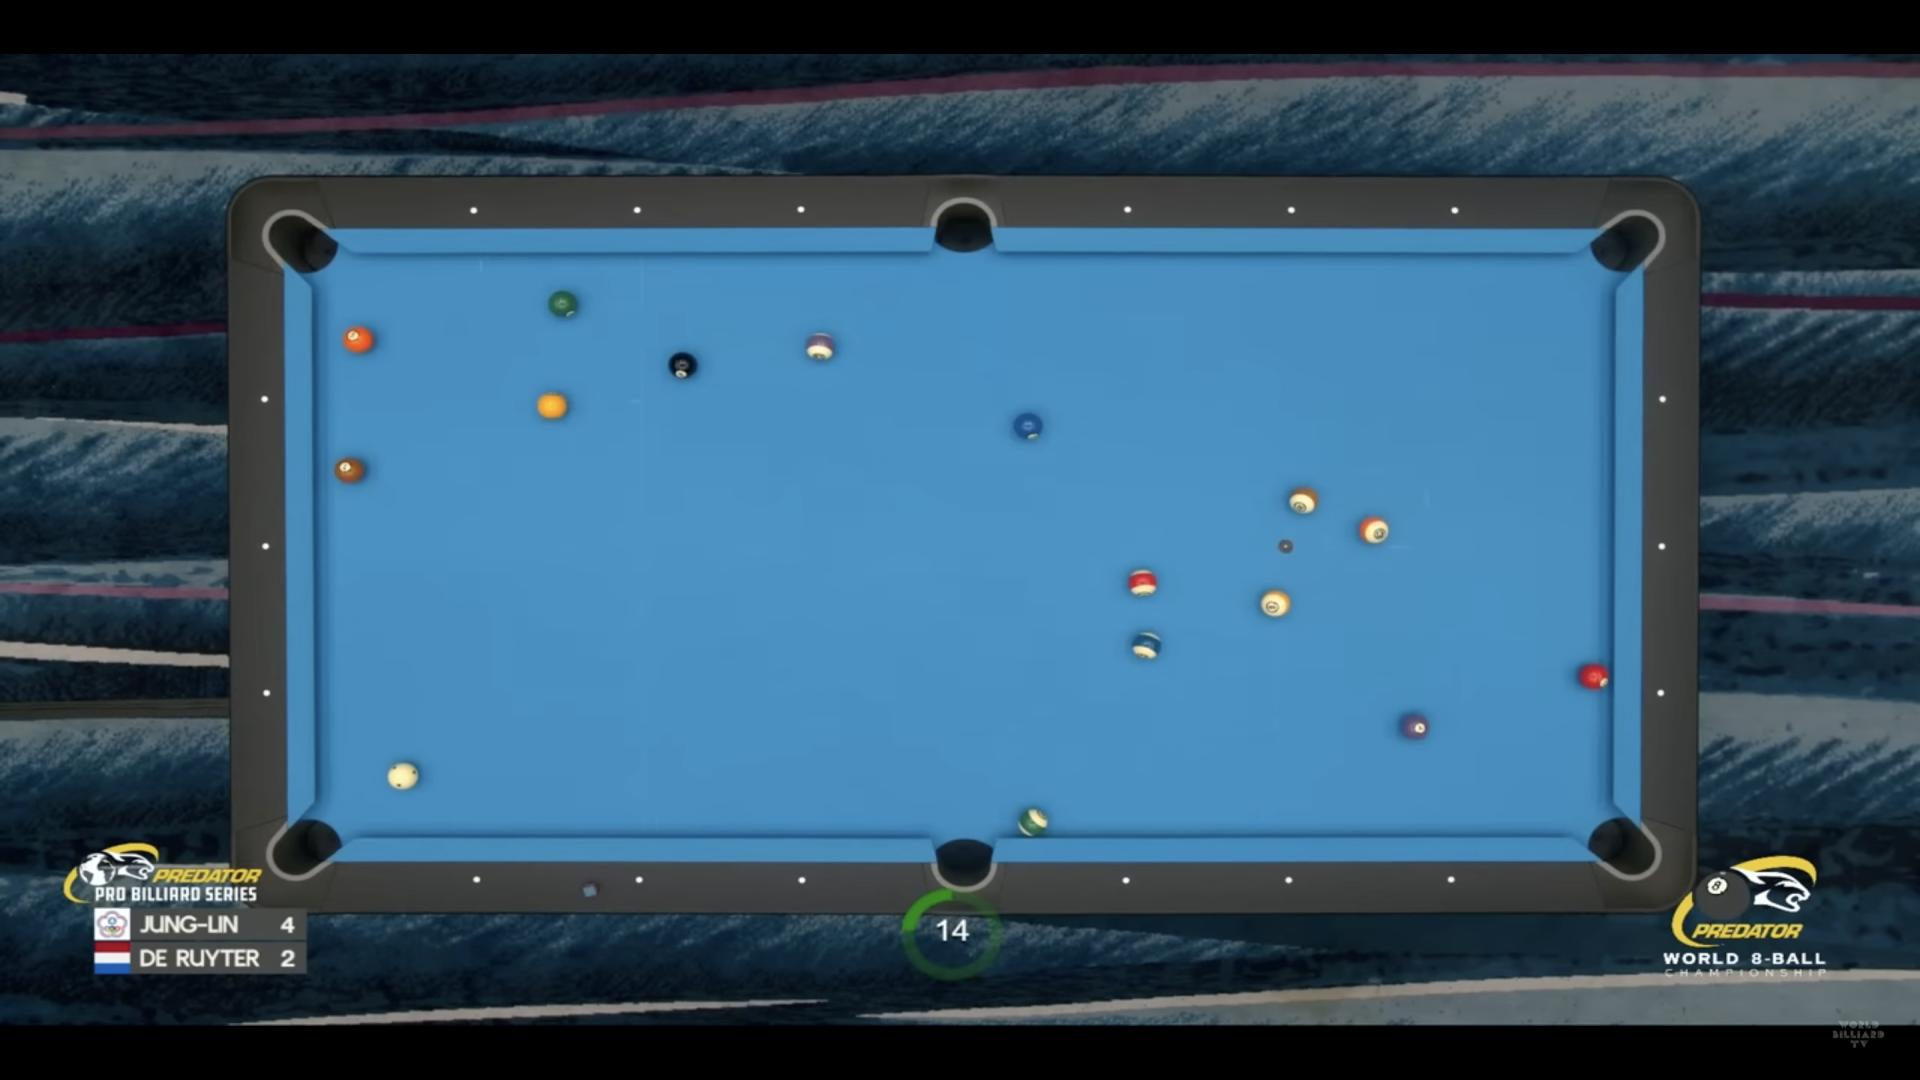Black: (669, 352, 698, 378)
Cue: (386, 762, 419, 790)
Dot: (257, 539, 273, 553), (261, 686, 276, 699), (257, 393, 272, 406), (1282, 874, 1296, 887), (1444, 873, 1458, 886), (469, 873, 483, 886), (1284, 204, 1298, 218), (1655, 541, 1669, 553), (1655, 393, 1669, 405), (1120, 876, 1134, 887), (1654, 687, 1667, 699), (633, 876, 646, 887), (795, 876, 808, 887), (1121, 203, 1134, 215), (467, 204, 479, 216), (1451, 204, 1462, 216), (632, 204, 644, 215), (795, 204, 807, 215)
Solid: (535, 392, 567, 419), (1014, 413, 1043, 439), (335, 458, 364, 484), (343, 327, 373, 352), (1578, 663, 1607, 688), (549, 291, 578, 316), (1402, 713, 1429, 738)
Striped: (1261, 589, 1291, 617), (1131, 632, 1162, 659), (1018, 808, 1048, 836), (1129, 568, 1156, 597), (1288, 487, 1319, 513), (1360, 517, 1389, 543), (806, 334, 833, 360)
